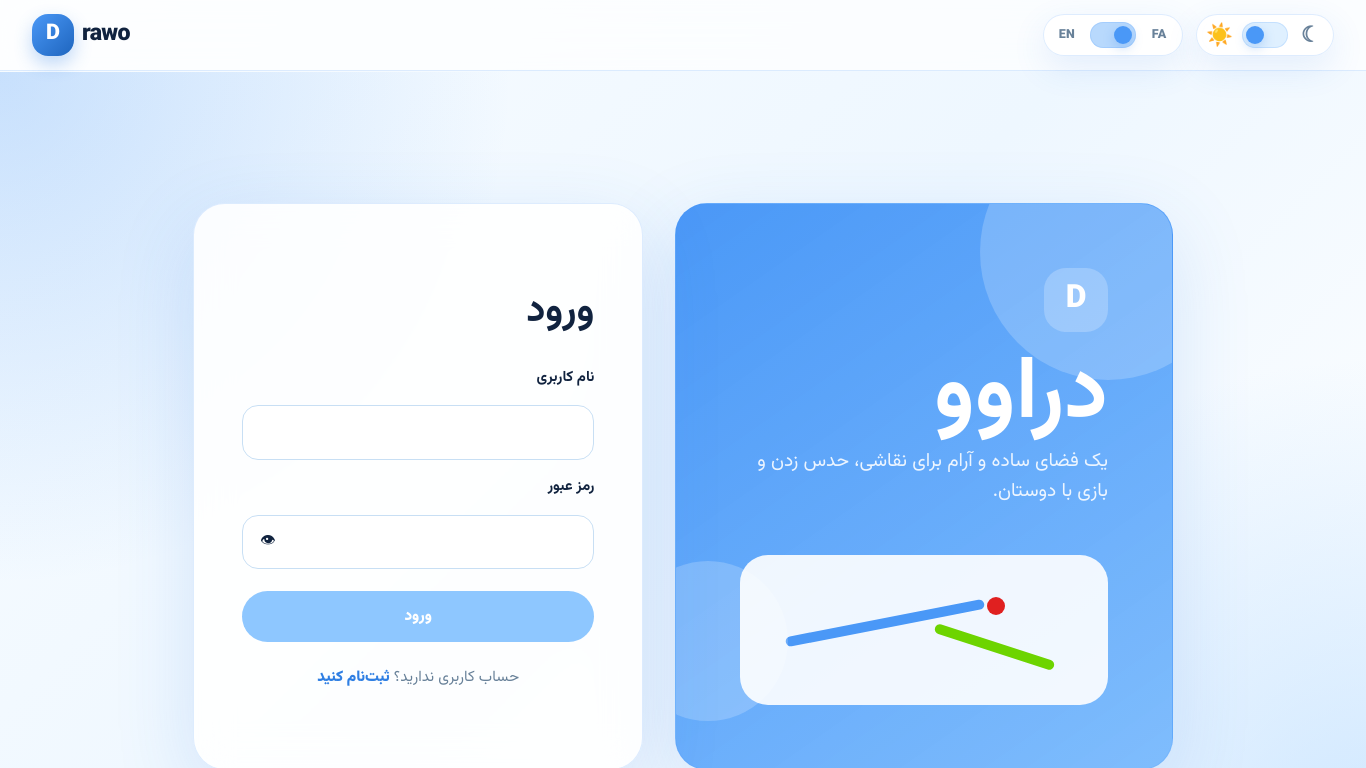
Test: LoginPage › translates invalid credentials by backend error code
Type "bad" into the field labelled "نام کاربری" at (418, 433), box [242,405,594,460]
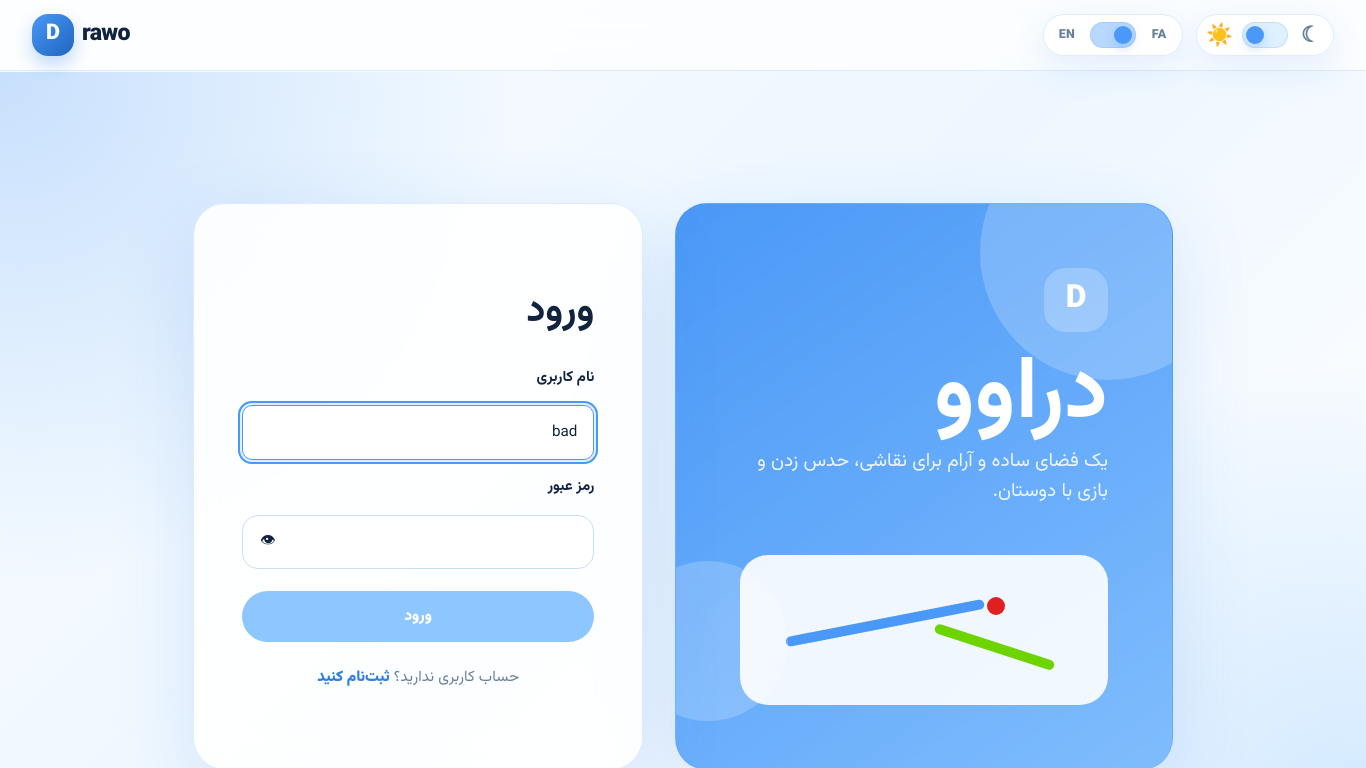
Type "wrong" into the password field labelled "رمز عبور" at (418, 542), box [242,515,594,569]
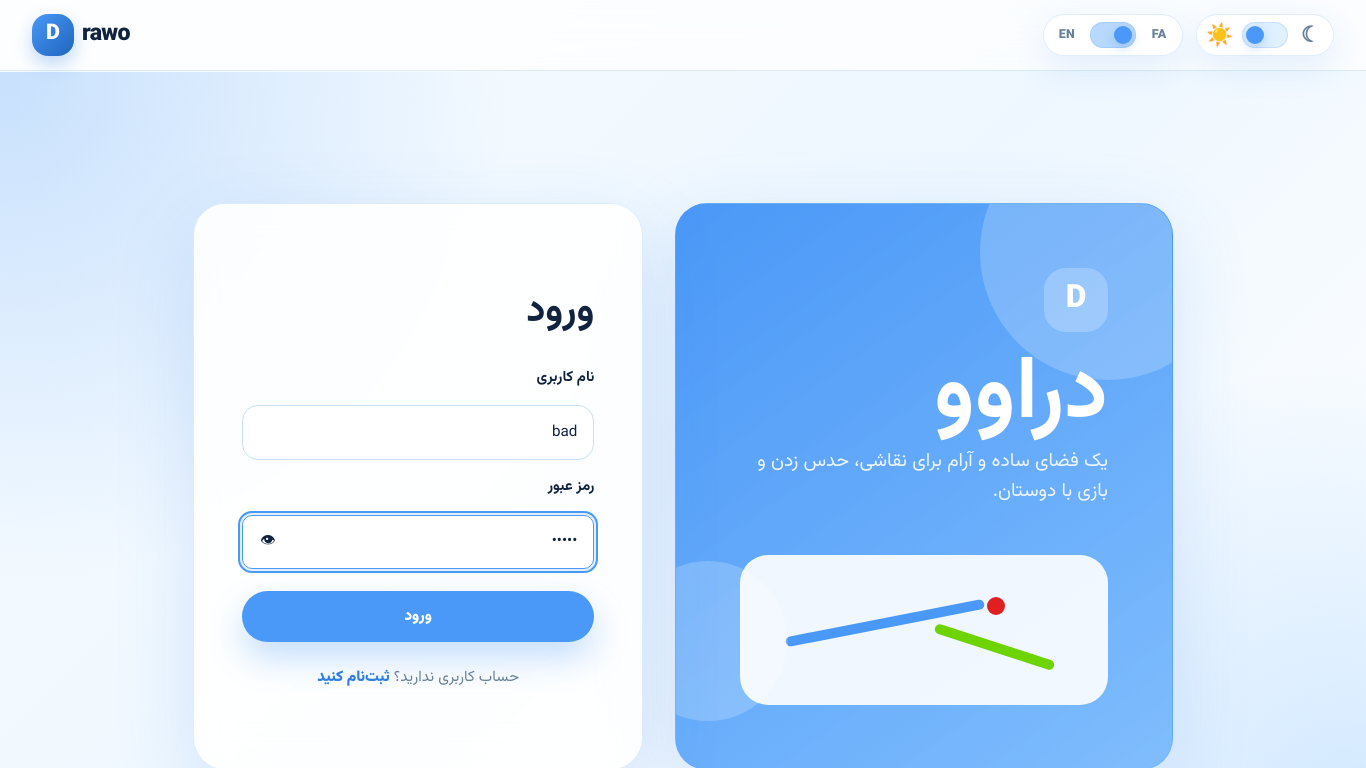
Click the button "ورود" at (418, 617), box [242,591,594,642]
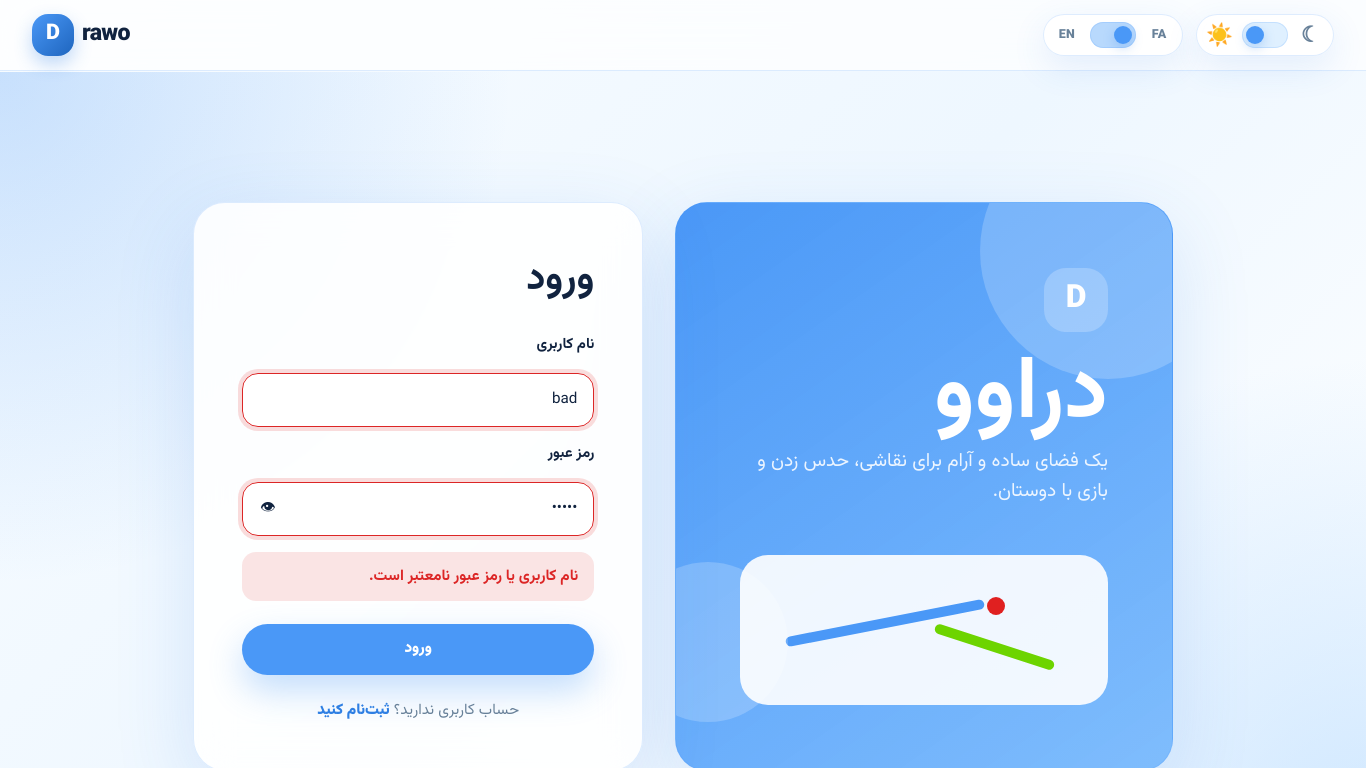
Check: the message reads "نام کاربری یا رمز عبور نامعتبر است.", box [369,564,578,588]
